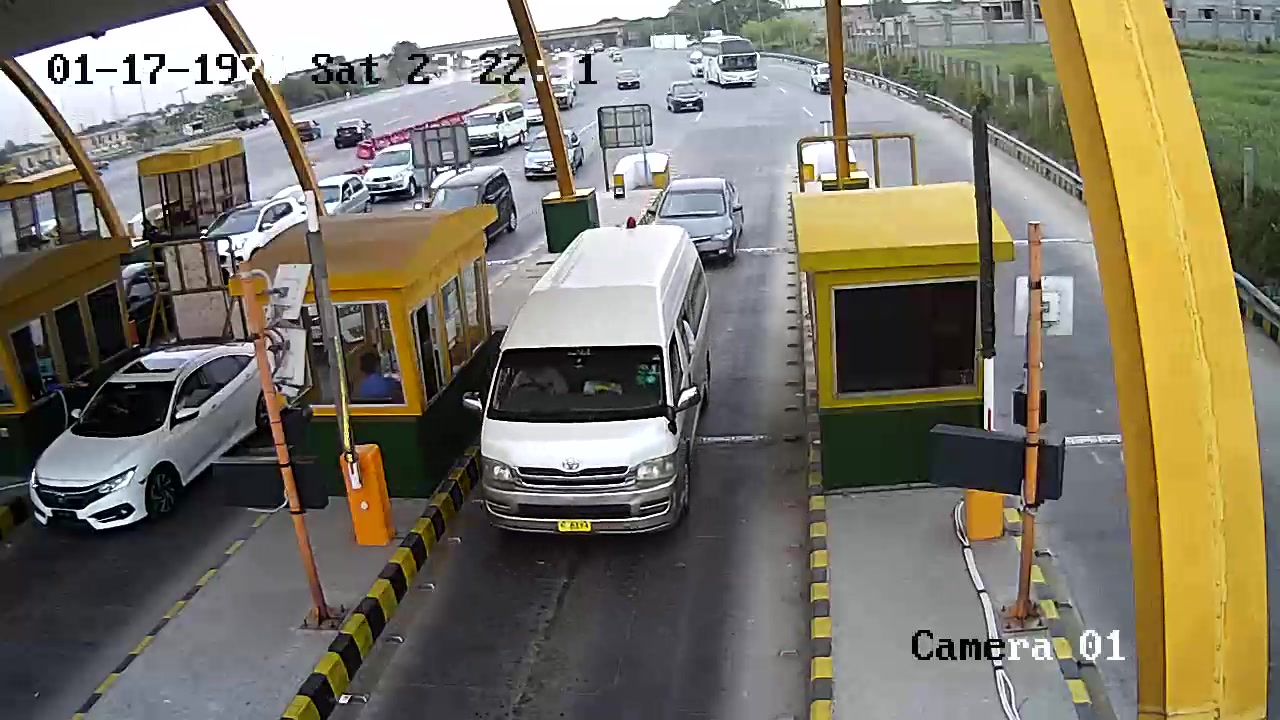F2: (480, 221, 713, 556)
